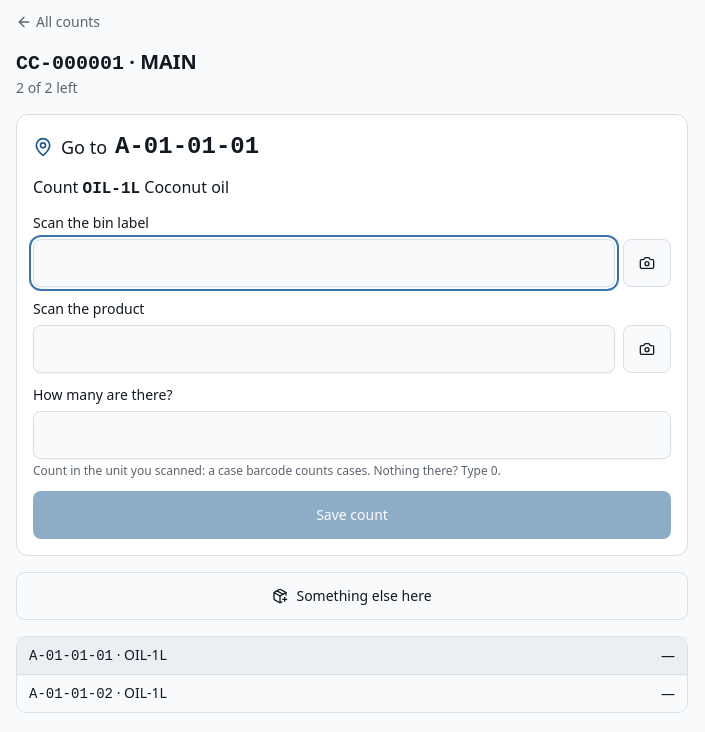
Scenario: counts blind on the phone: scan the bin and product, type what is there, no system figure shown
Expected: the text "A-01-01-01" next to "Go to" is shown, [115,133,259,160]
Type "a-01-01-02" into the field labelled "Scan the bin label" at (324, 263), box [33,239,615,287]
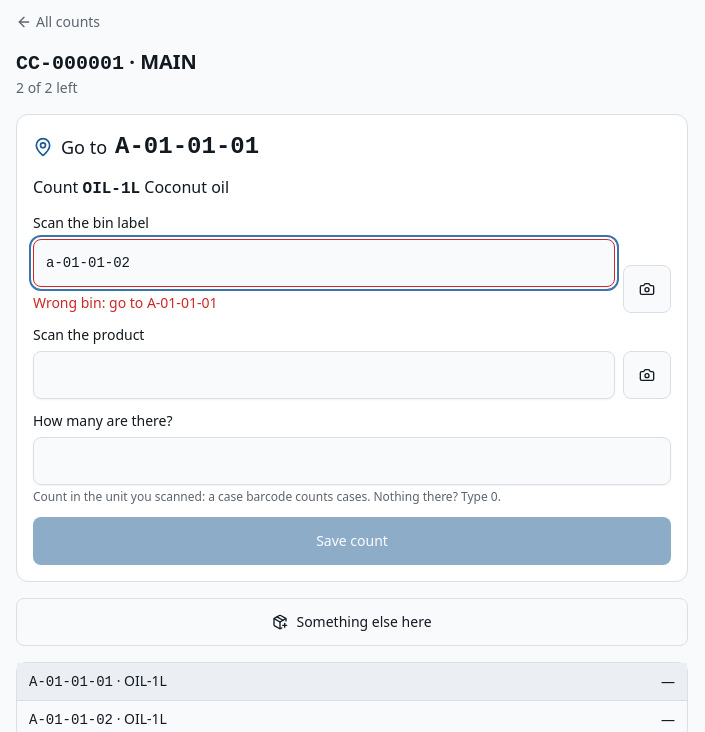
Expected: the button "Save count" is disabled, [33,517,671,565]
Now the text "Wrong bin: go to A-01-01-01" is shown, box [33,293,217,312]
Replace the text in the field labelled "Scan the bin label" with "A-01-01-01" at (324, 263), box [33,239,615,287]
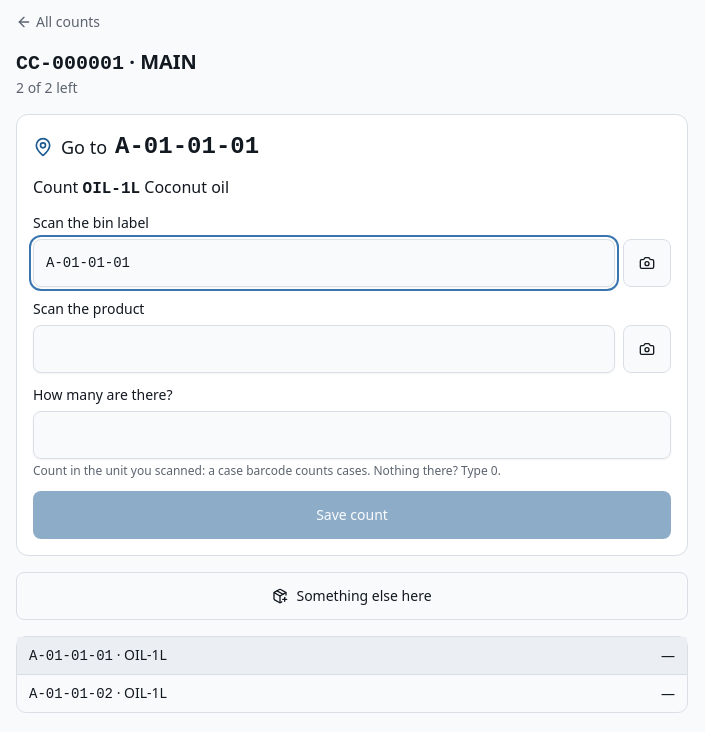
Type "4791" into the field labelled "Scan the product" at (324, 349), box [33,325,615,373]
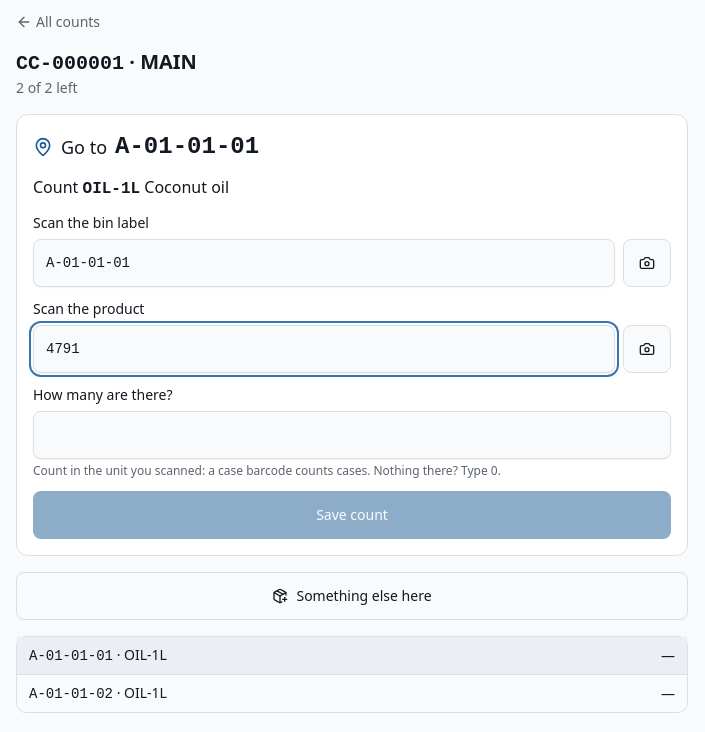
Type "5" into the field labelled "How many are there?" at (352, 435), box [33,411,671,459]
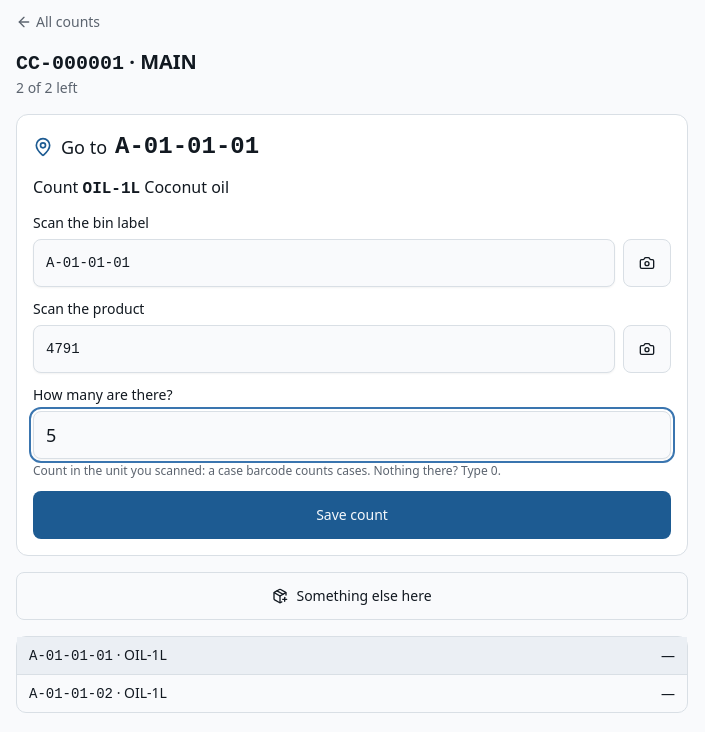
Click the button "Save count" at (352, 515), box [33,491,671,539]
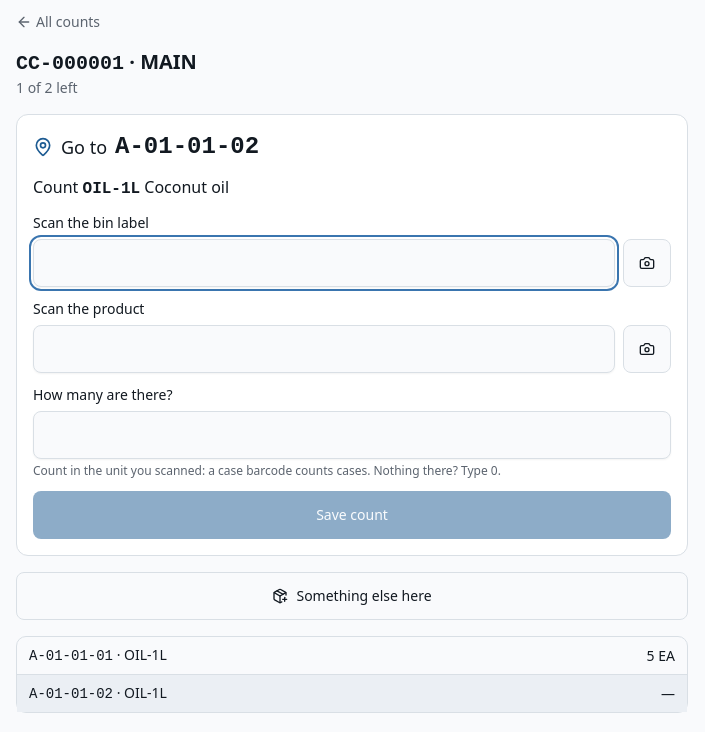
Now the text "A-01-01-02" next to "Go to" is shown, box [115,133,259,160]
Now the text "1 of 2 left" is shown, box [16,78,78,97]
